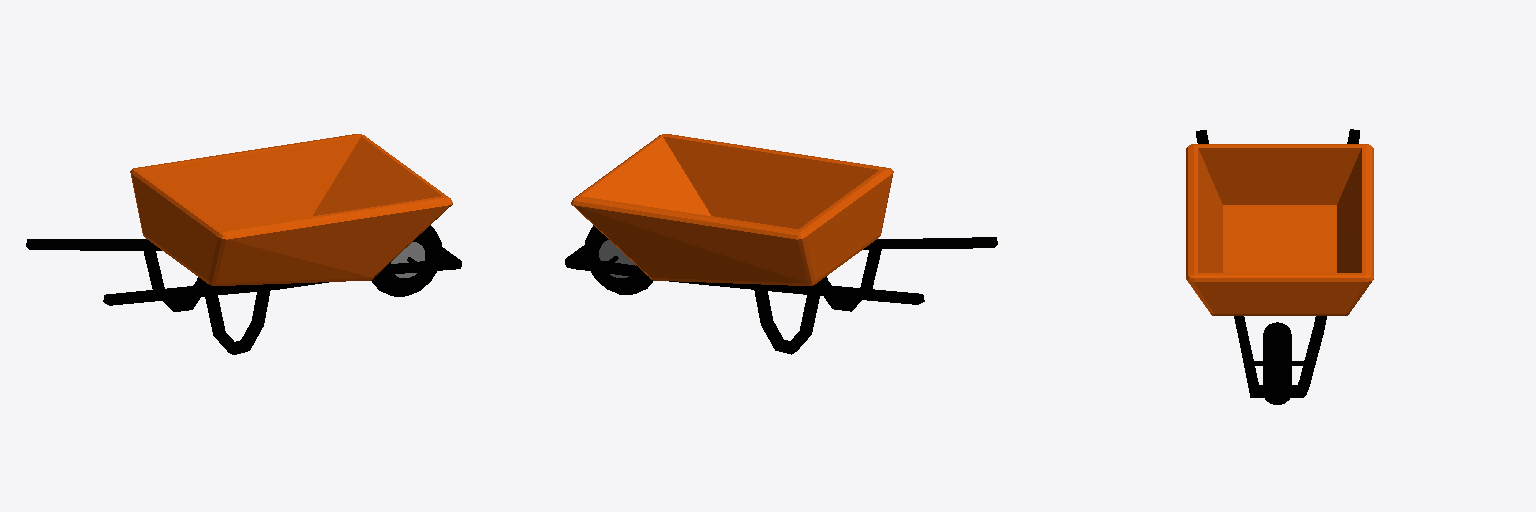
The model's file is WheelBarrow_1364.obj.
The picture shows the model from 3 angles: view 1: azimuth 30°, elevation 25°; view 2: azimuth 150°, elevation 25°; view 3: azimuth 270°, elevation 25°; orthographic projection.
Parts seen in each view (by area): view 1: ChamferBox001; view 2: ChamferBox001; view 3: ChamferBox001.
Boxes of the visible parts, x1=… form: ChamferBox001: x1=26, y1=134, x2=461, y2=354; ChamferBox001: x1=565, y1=134, x2=997, y2=354; ChamferBox001: x1=1186, y1=129, x2=1373, y2=404.
Bounding box in the file's own units: 94.88 × 35.02 × 40.45.